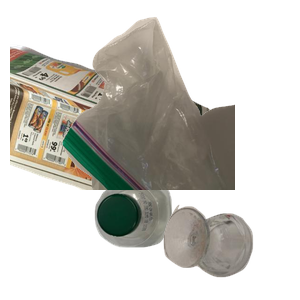glass: (161, 202, 300, 300)
paper: (10, 42, 224, 222)
plastic: (92, 176, 257, 300)
trash: (60, 14, 300, 194)
